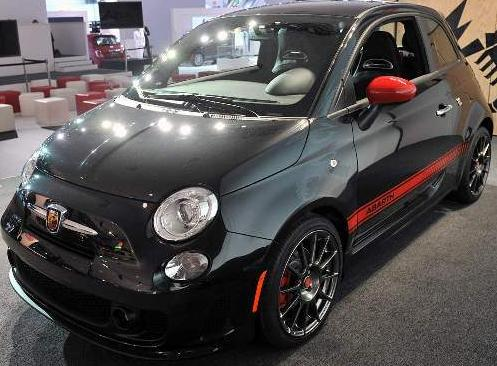front_view: (8, 151, 228, 330)
headlight: (153, 170, 240, 249)
side_glass: (330, 19, 440, 89)
